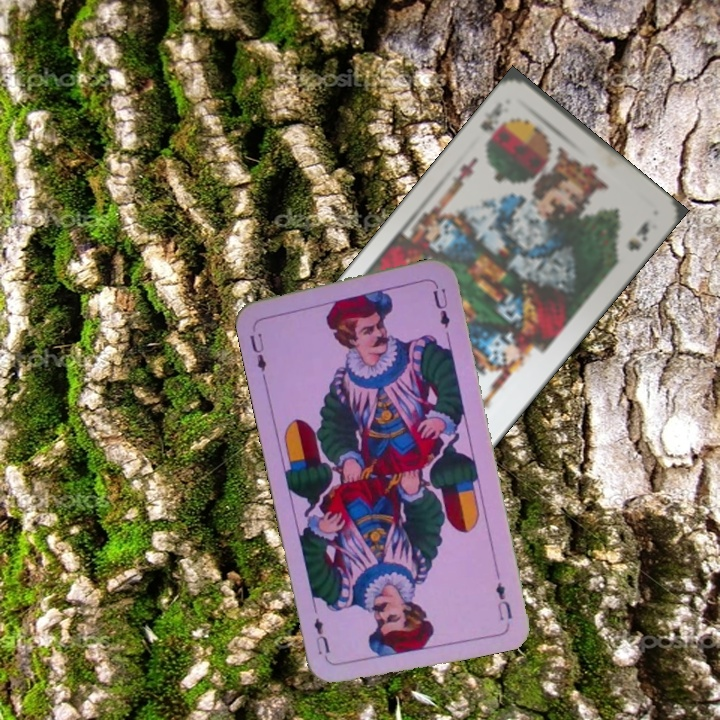EU: (245, 320, 269, 379), (491, 566, 515, 624)
SK: (475, 98, 509, 151)
